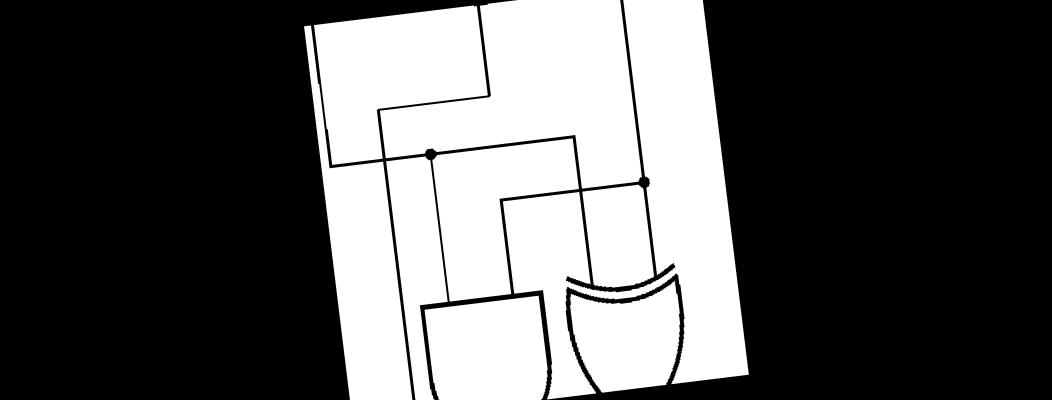and: (409, 271, 561, 400)
xor: (551, 248, 702, 397)
